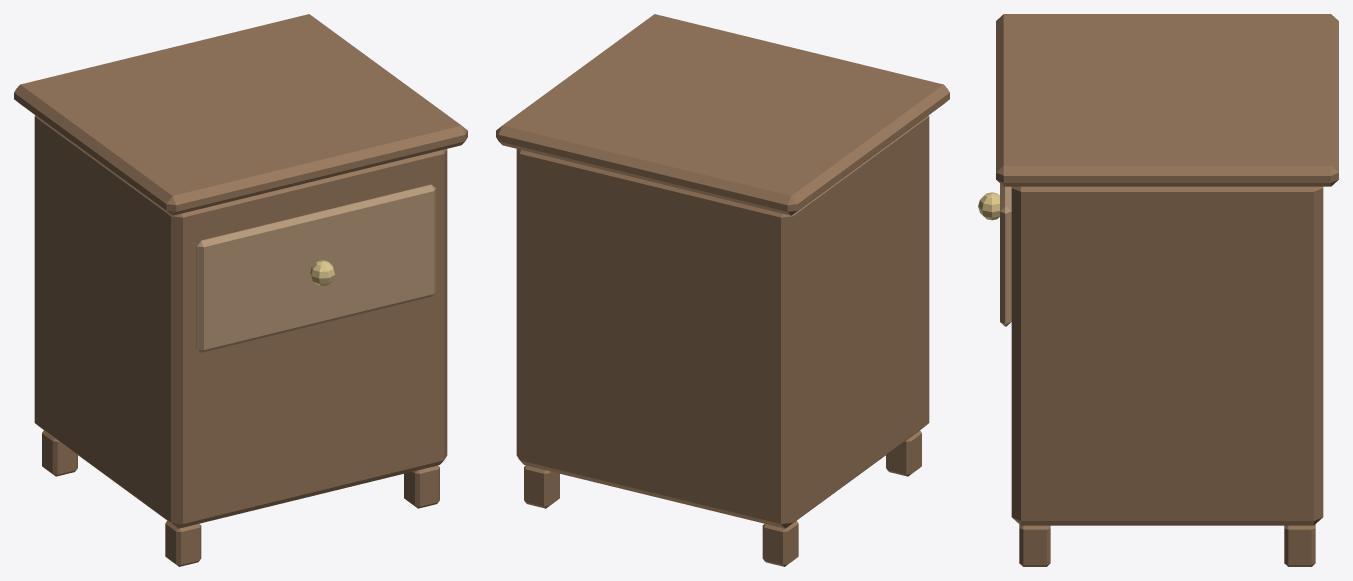
Rendered from nightstand.fbx.
3 renders of one model, left to right at view 1: azimuth 30°, elevation 25°; view 2: azimuth 150°, elevation 25°; view 3: azimuth 270°, elevation 25°, orthographic. The views are drawn at different scales.
Parts seen in each view (by area): view 1: Body, Drawer_0; view 2: Body; view 3: Body, Drawer_0.
Part boxes in pixels (x1,y1,x2,y2): Body: (14, 14, 467, 566); Drawer_0: (196, 184, 435, 352); Body: (496, 14, 949, 566); Body: (996, 14, 1338, 566); Drawer_0: (978, 183, 1011, 326).
Bounding box in the file's own units: 0.48 × 0.58 × 0.463.
